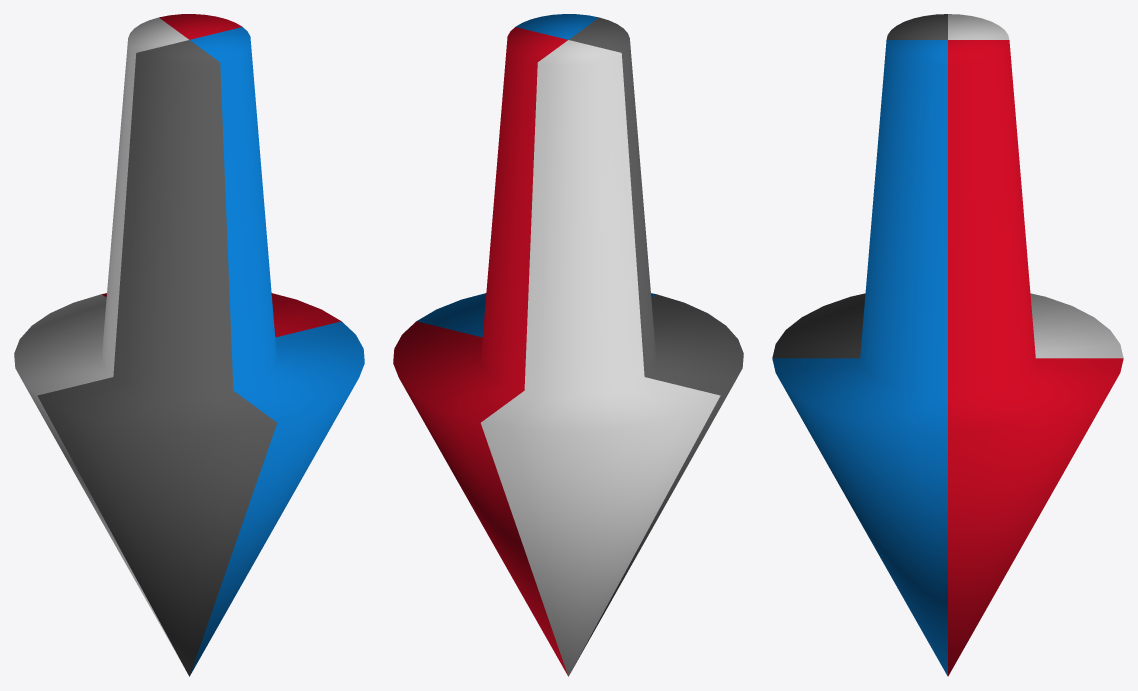
Rendered from Cursor3.fbx.
3 renders of one model, left to right at view 1: azimuth 30°, elevation 25°; view 2: azimuth 150°, elevation 25°; view 3: azimuth 270°, elevation 25°, orthographic.
Parts seen in each view (by area): view 1: Circle.001; view 2: Circle.001; view 3: Circle.001.
Part boxes in pixels (x1=…): Circle.001: x1=14, y1=14, x2=364, y2=676; Circle.001: x1=393, y1=14, x2=743, y2=676; Circle.001: x1=772, y1=14, x2=1123, y2=676.
Size of the model in its own units: 200 by 400 by 200.
